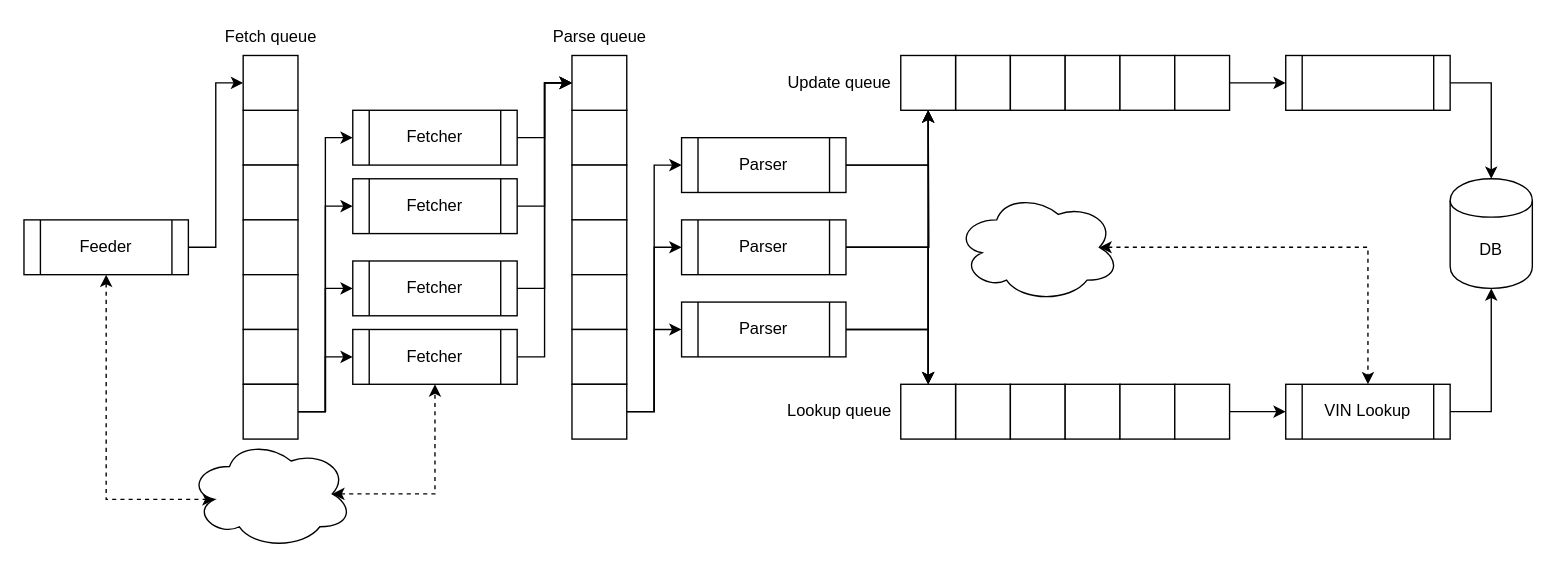
Some shapes in this 1556 by 573 pixel diagram are drawn without their labels. The shapes that lost their labels are listed below. From the top down, each one's box as (x1, y1, x2, y2) in pixels, then its label:
(1284, 54, 1450, 110): Updater
(954, 191, 1120, 302): NHTSA API
(187, 438, 353, 549): Craigslist
